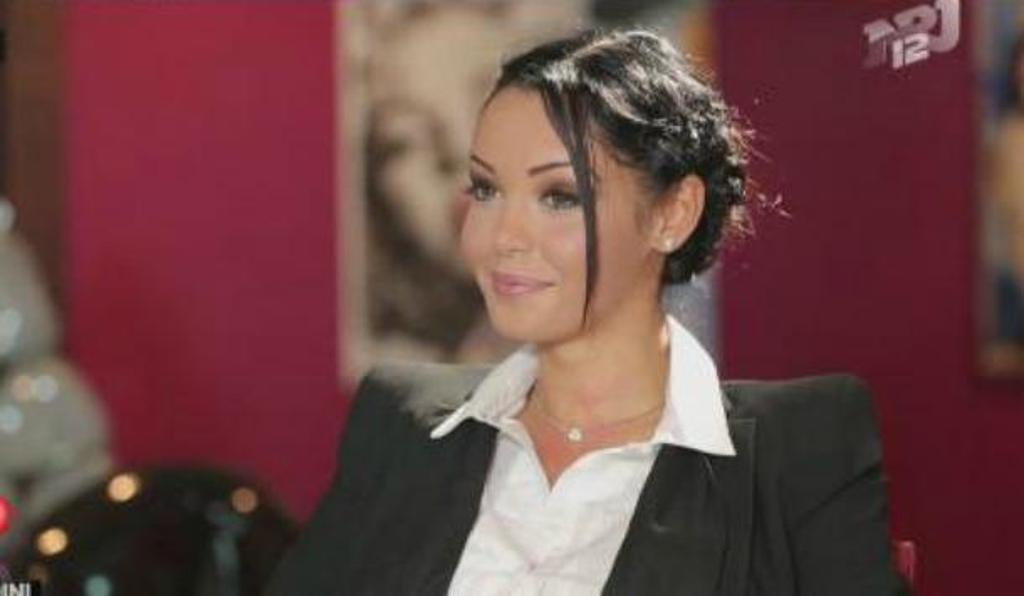face: (464, 82, 656, 338)
